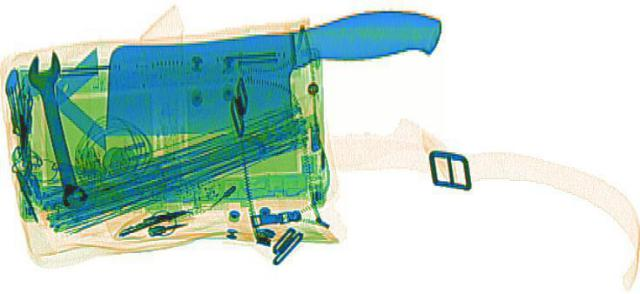Knife: (88, 7, 452, 134)
Wrench: (20, 50, 89, 206)
